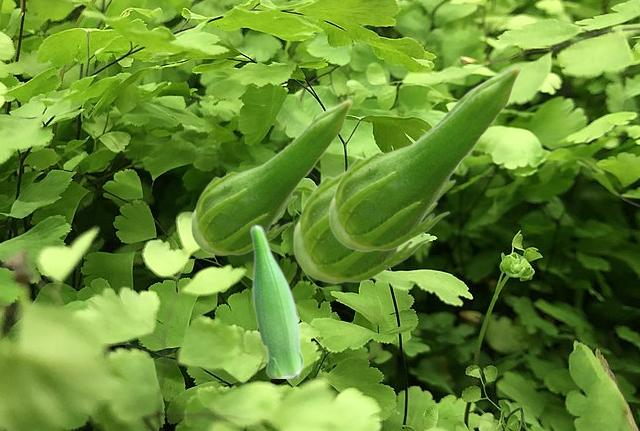okra: (292, 82, 481, 283), (328, 64, 521, 251), (190, 98, 352, 255), (249, 224, 302, 377)
